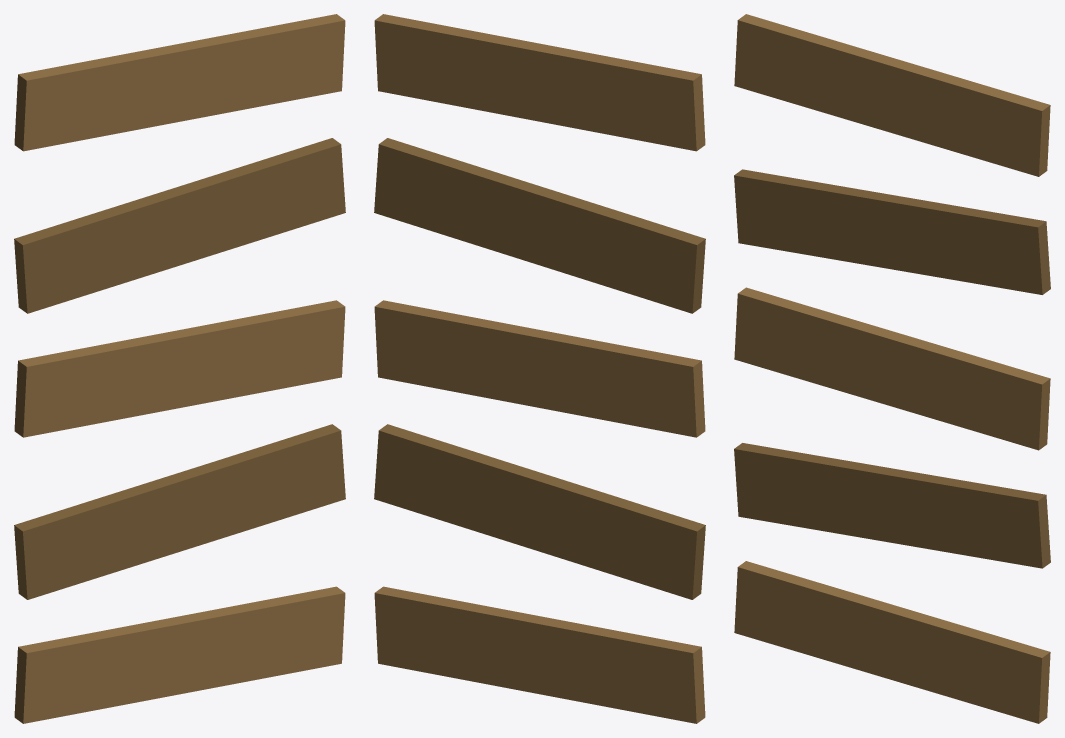
The model's file is module_barricade.glb.
3 renders of one model, left to right at view 1: azimuth 30°, elevation 25°; view 2: azimuth 150°, elevation 25°; view 3: azimuth 330°, elevation 25°, orthographic. The views are drawn at different scales.
Parts seen in each view (by area): view 1: body; view 2: body; view 3: body.
Boxes of the visible parts, x1,y1,x2,y2 form: body: (14,14,345,723); body: (374,14,705,723); body: (734,14,1050,723).
Size of the model in its own units: 1.06 by 2.07 by 0.05.
